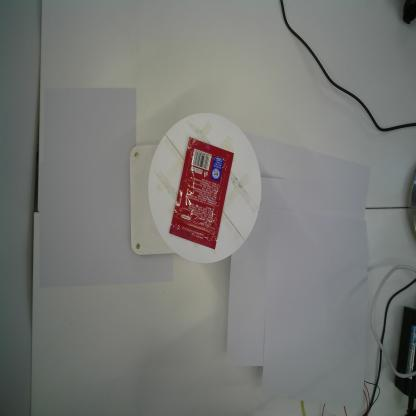Seasoner: (169, 137, 234, 249)
